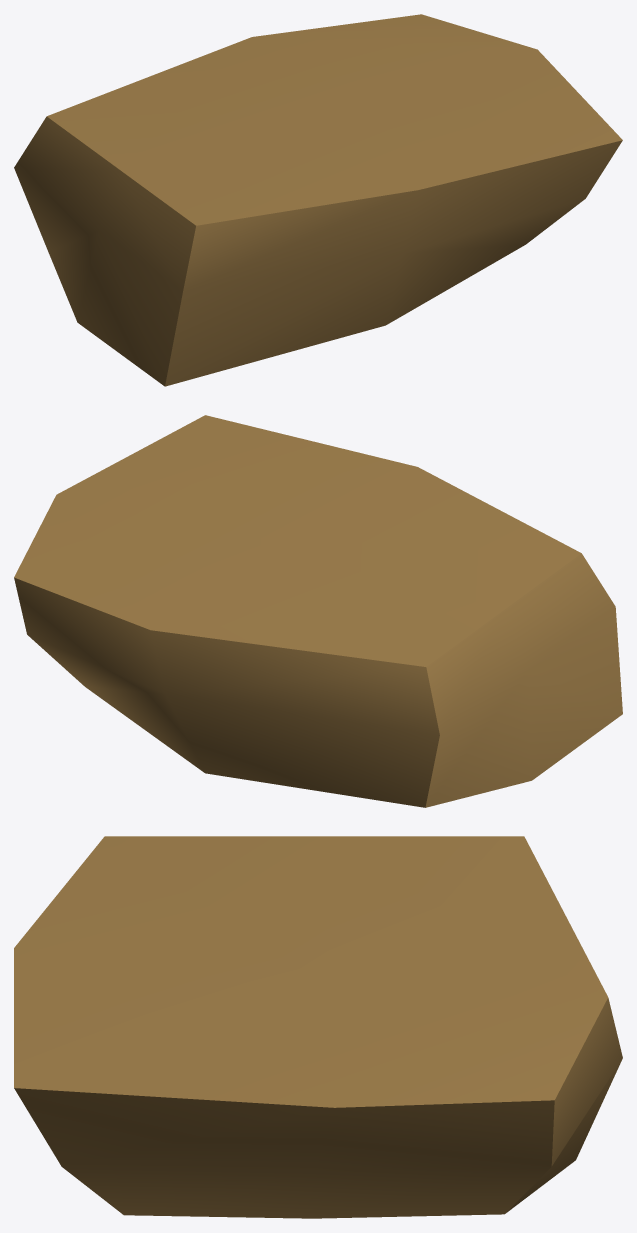
File: rock_01.fbx
3 views of the same model, one above another, from view 1: azimuth 30°, elevation 25°; view 2: azimuth 150°, elevation 25°; view 3: azimuth 270°, elevation 25° (orthographic). The views are drawn at different scales.
Parts seen in each view (by area): view 1: pCube2; view 2: pCube2; view 3: pCube2.
Part boxes in pixels (<box>): pCube2: <box>14,14,622,386</box>; pCube2: <box>14,415,622,807</box>; pCube2: <box>14,836,622,1218</box>.
Bounding box in the file's own units: 205 × 69.41 × 168.
